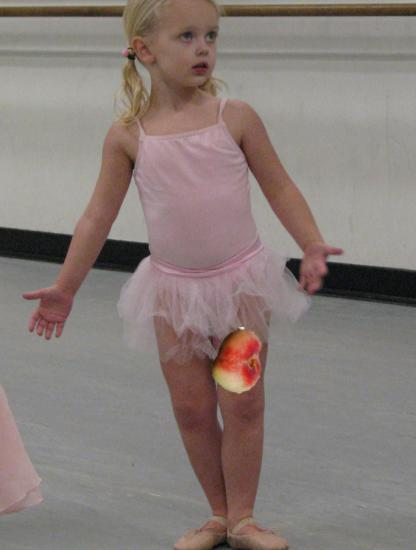Peach: (204, 328, 270, 394)
